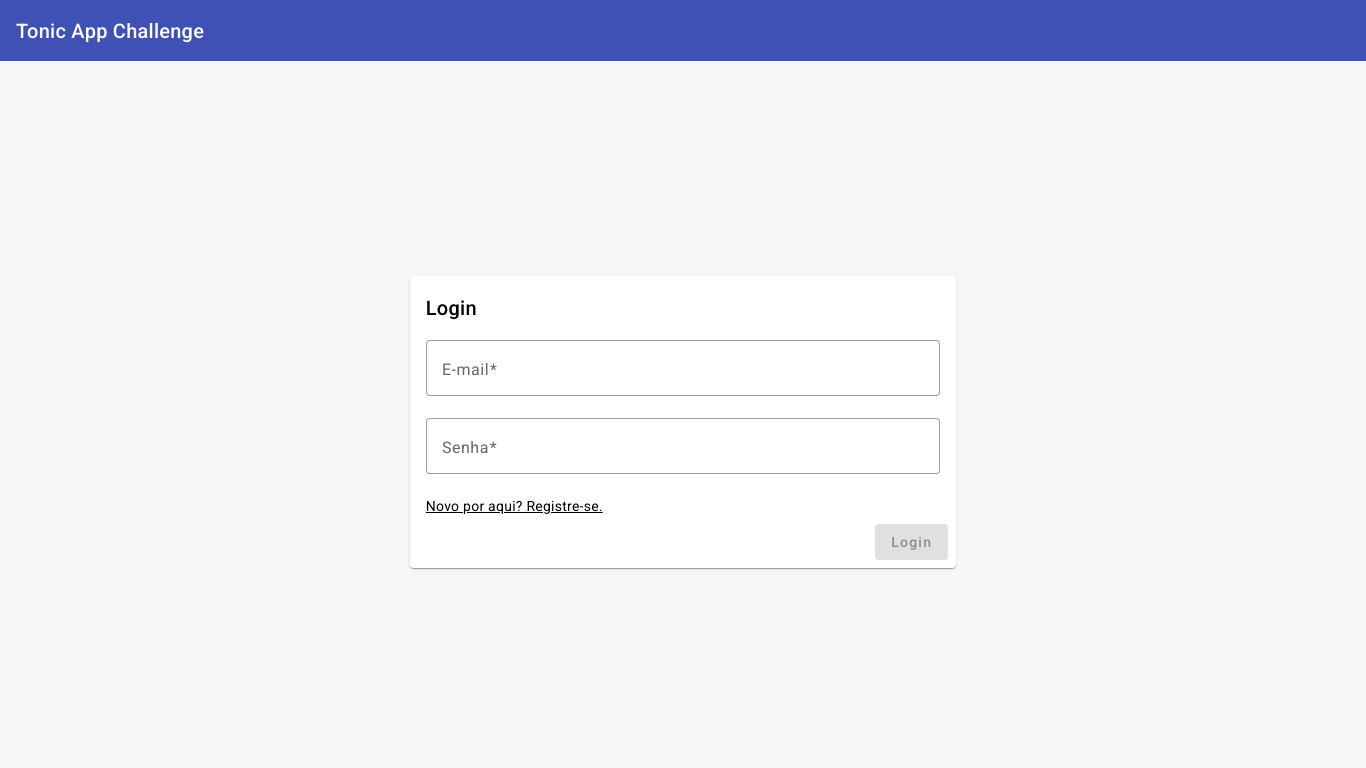
Test: Register flow › Access from login screen
Check: the 1st text "Login" is shown, box [426,292,477,324]
What coordinates should you click on to do the following:
click the link "Novo por aqui? Registre-se."
I would click on:
 (515, 506)
Its box is [426,498,603,514].
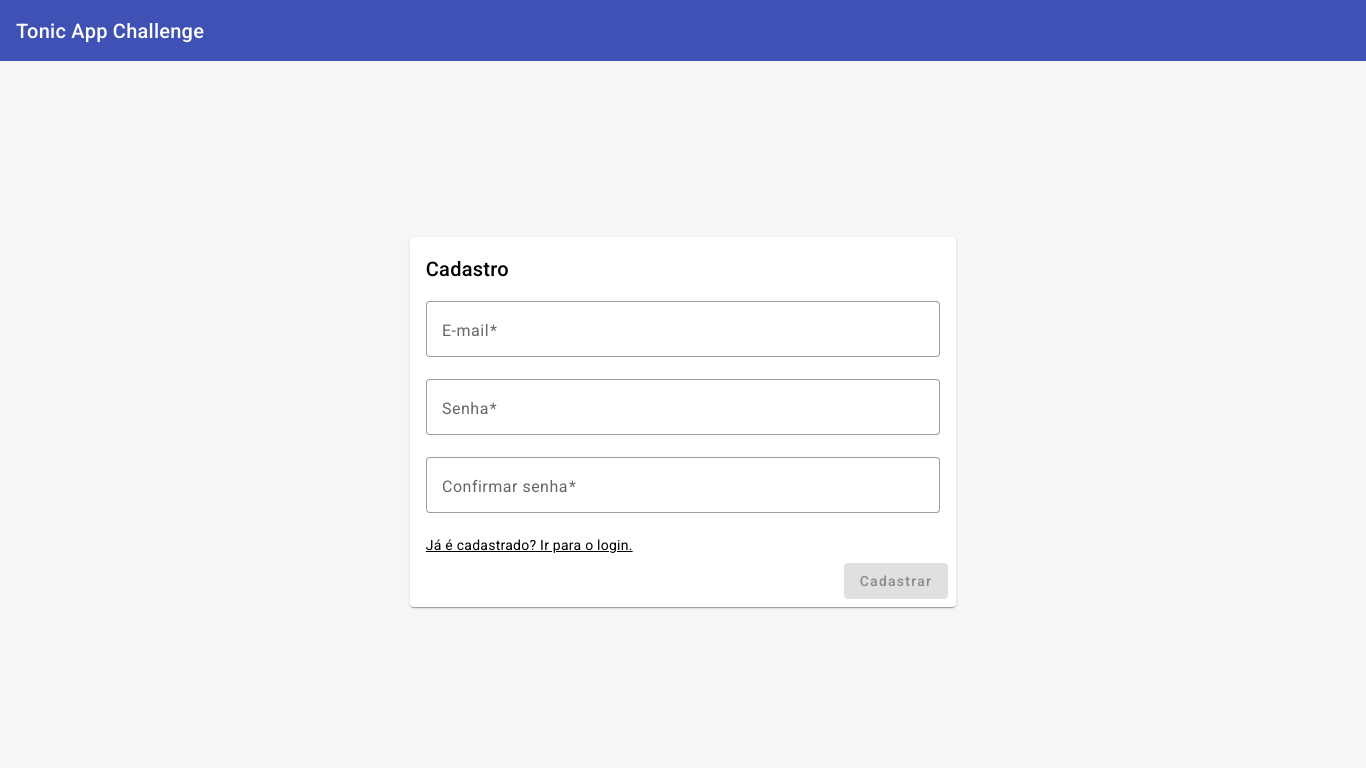
Check: the field named "email" is shown, box [442,317,924,341]
Check: the text "Cadastro" is shown, box [426,253,509,285]
Check: the password field named "confirmPassword" is shown, box [442,473,924,497]
